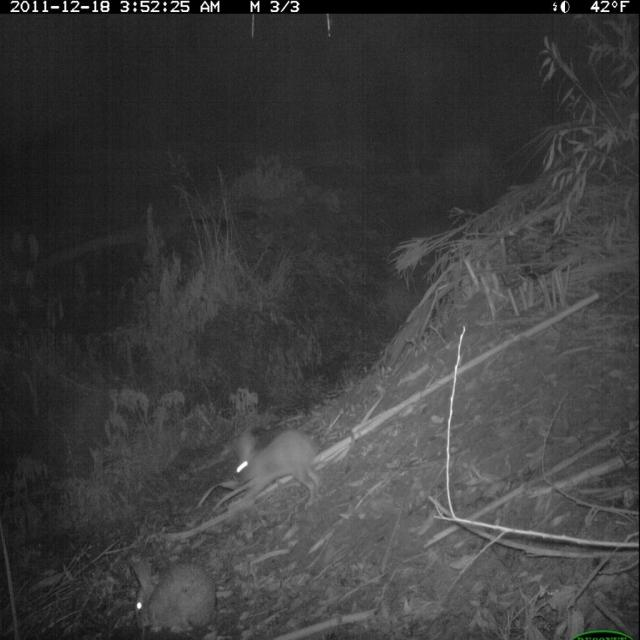rabbit: (224, 426, 332, 520), (127, 548, 222, 638)
